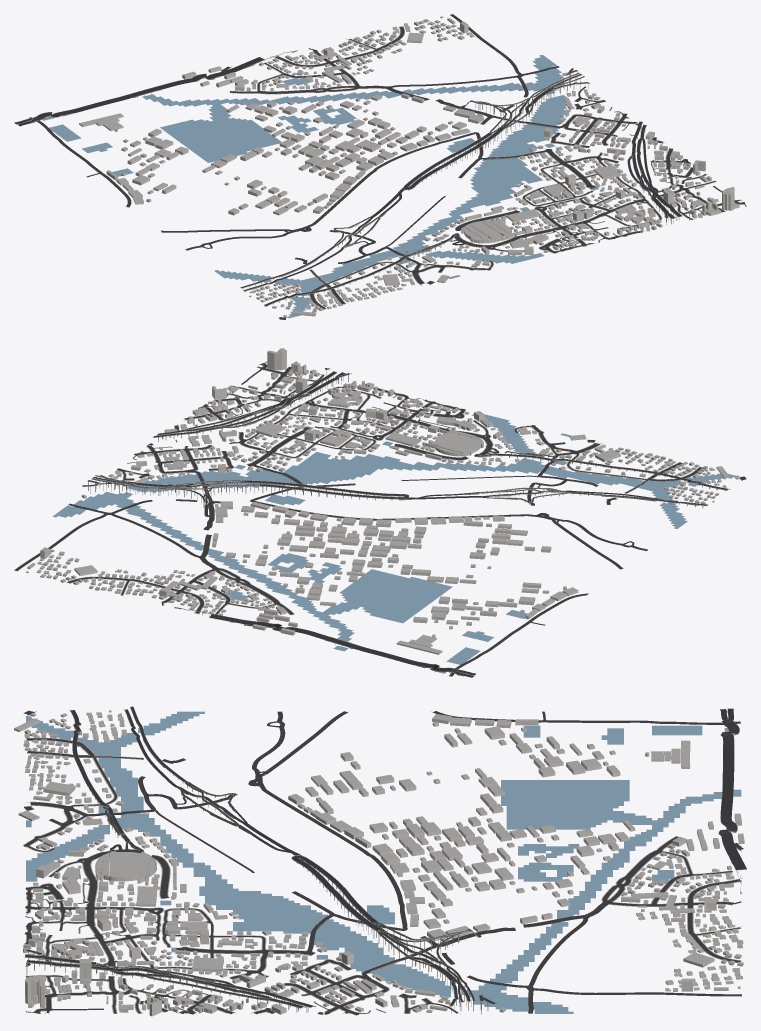
File: chunk_7_4.glb
3 renders of one model, top to bottom at view 1: azimuth 30°, elevation 25°; view 2: azimuth 150°, elevation 25°; view 3: azimuth 270°, elevation 25°, orthographic. The views are drawn at different scales.
Visible parts, largest first — view 1: Filler_7_4, Water_7_4, Roads_7_4, RoadSides_7_4, Buildings_7_4; view 2: Filler_7_4, Water_7_4, Roads_7_4, RoadSides_7_4, Buildings_7_4; view 3: Filler_7_4, Water_7_4, Roads_7_4, RoadSides_7_4, Buildings_7_4.
Boxes of the visible parts, box(x1,y1,x2,y2) form: Filler_7_4: box(106, 18, 702, 317); Water_7_4: box(42, 55, 598, 318); Roads_7_4: box(14, 14, 746, 319); RoadSides_7_4: box(22, 26, 745, 317); Buildings_7_4: box(79, 16, 739, 282); Filler_7_4: box(27, 369, 739, 635); Water_7_4: box(53, 414, 737, 673); Roads_7_4: box(14, 361, 746, 677); RoadSides_7_4: box(65, 363, 742, 676); Buildings_7_4: box(26, 348, 586, 654); Filler_7_4: box(14, 710, 744, 1012); Water_7_4: box(26, 711, 741, 1013); Roads_7_4: box(23, 706, 746, 1015); RoadSides_7_4: box(24, 707, 746, 1014); Buildings_7_4: box(18, 740, 740, 1016).
Bounding box in the file's own units: 2072 × 69.46 × 2099.
